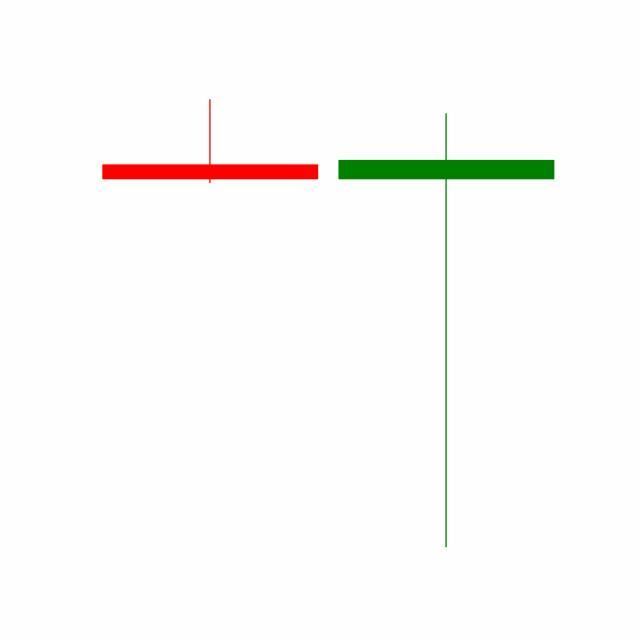Spinning Top: (328, 109, 566, 553)
